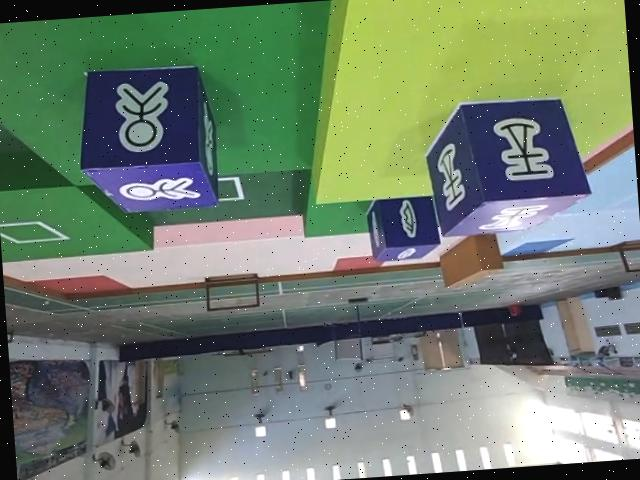R2 Real Blue: (421, 92, 590, 238), (73, 58, 223, 213), (366, 189, 443, 261)
